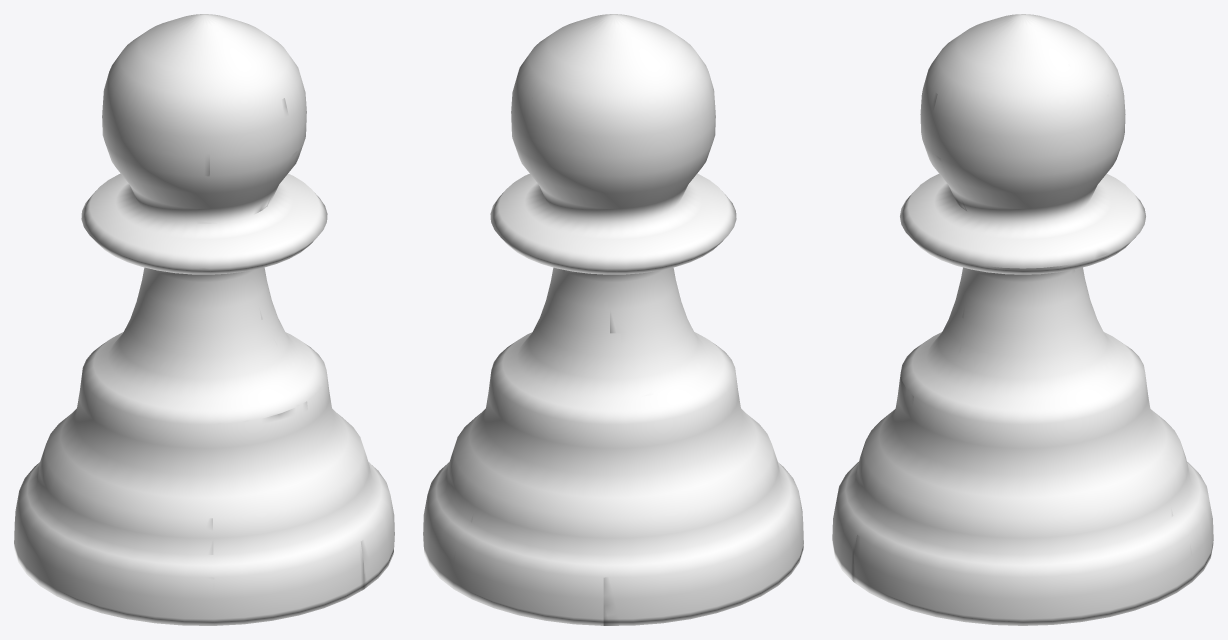
Rendered from Pawn_White.fbx.
The picture shows the model from 3 angles, left to right: view 1: azimuth 30°, elevation 25°; view 2: azimuth 150°, elevation 25°; view 3: azimuth 270°, elevation 25°; orthographic projection.
Parts seen in each view (by area): view 1: polySurface1.001; view 2: polySurface1.001; view 3: polySurface1.001.
Boxes of the visible parts, <box> form: polySurface1.001: <box>14,14,394,625</box>; polySurface1.001: <box>423,14,803,625</box>; polySurface1.001: <box>832,14,1213,625</box>.
Size of the model in its own units: 1.73 by 2.67 by 1.73.
